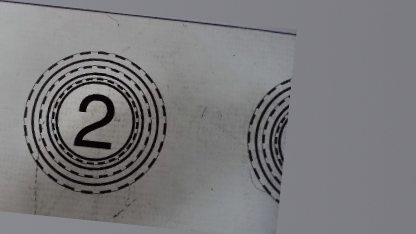2r: (14, 42, 173, 201)
